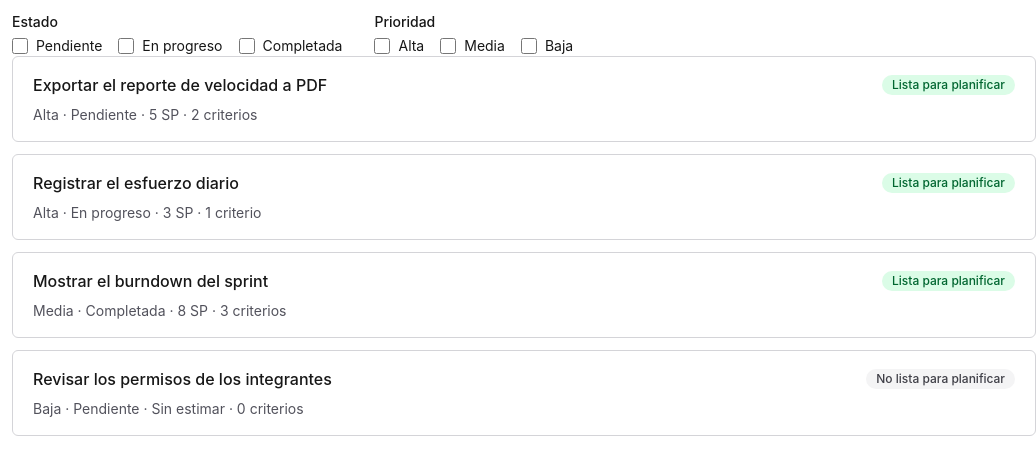
it: 003/US2 - Ver el backlog ordenado y filtrado › admite varios valores en un mismo filtro
Expected: the list item that starts with "Exportar el reporte de velocidad a PDF" is shown, x1=33 y1=75 x2=327 y2=95
Expected: the list item that starts with "Registrar el esfuerzo diario" is shown, x1=33 y1=173 x2=239 y2=193
Step 1. Click the checkbox labelled "Pendiente" → (20, 46), box x1=12 y1=38 x2=28 y2=54
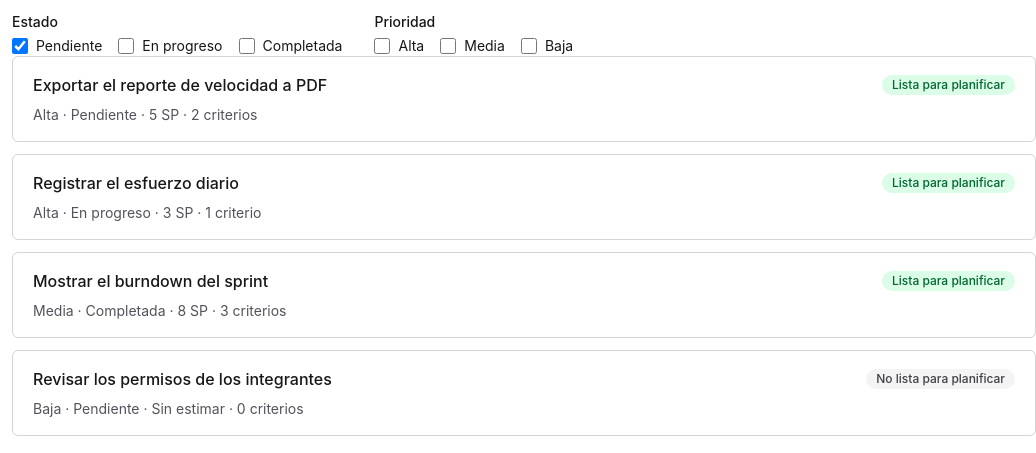
Step 2. Click the checkbox labelled "En progreso" → (126, 46), box x1=118 y1=38 x2=134 y2=54
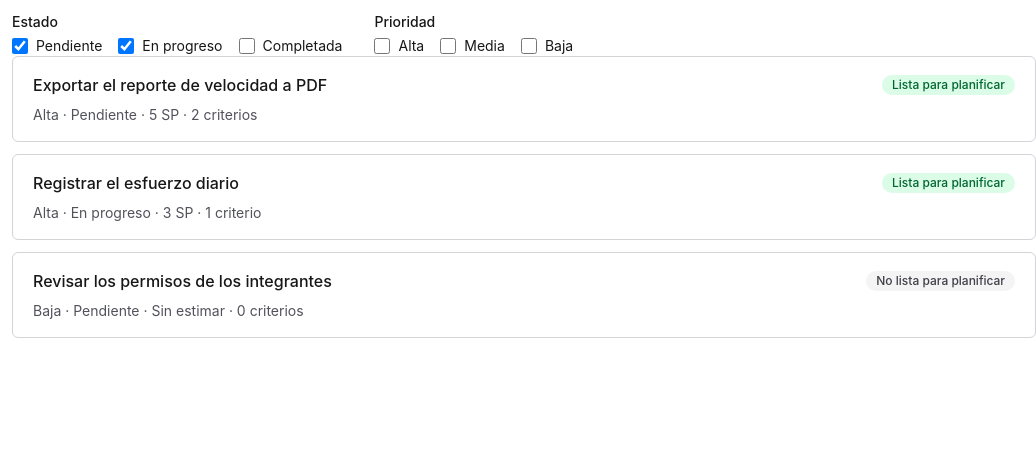
Expected: the list item that starts with "Exportar el reporte de velocidad a PDF" is shown, x1=33 y1=75 x2=327 y2=95
Expected: the number of list items is 3, x1=12 y1=56 x2=1035 y2=142; x1=12 y1=154 x2=1035 y2=240; x1=12 y1=252 x2=1035 y2=338
